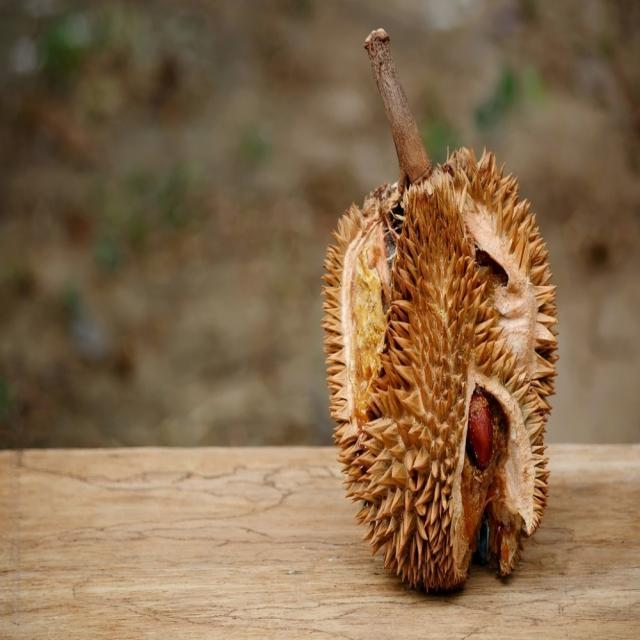defective: (321, 141, 561, 595)
